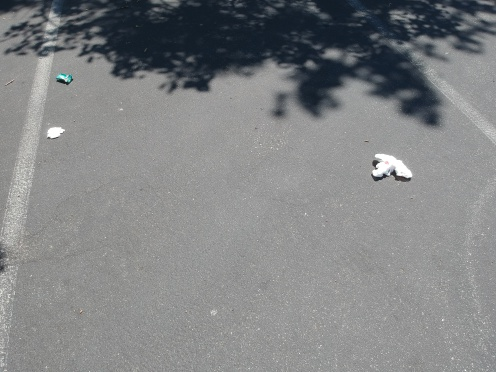plastic bag: (365, 148, 421, 194)
